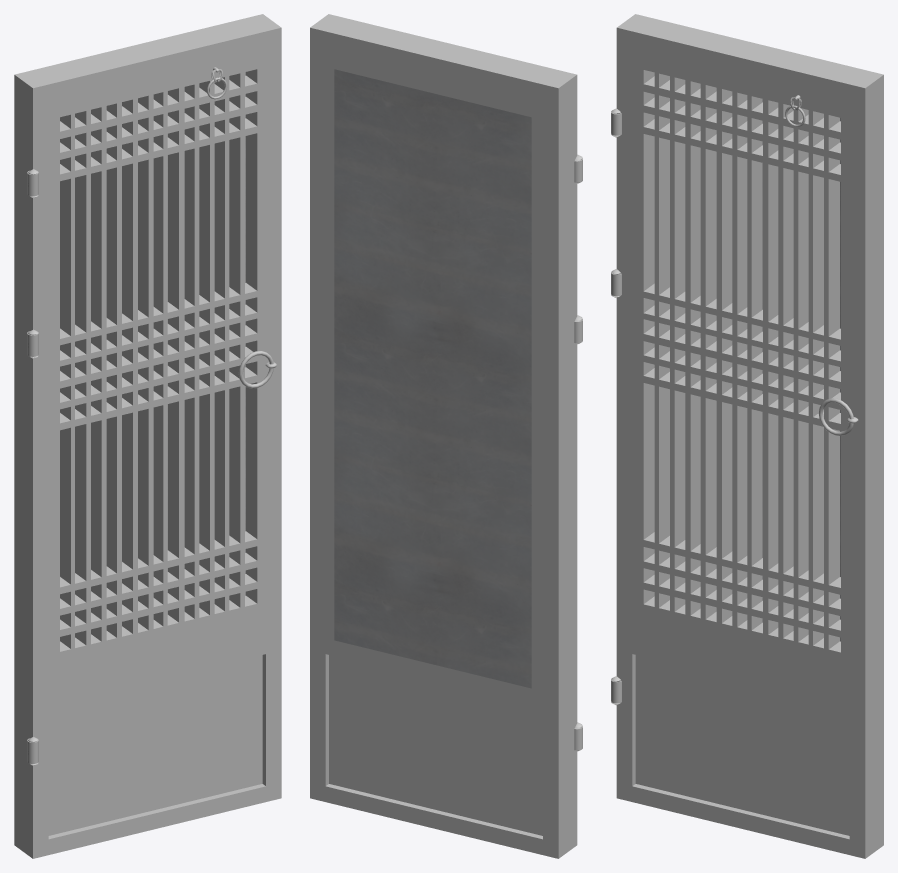
Rendered from SM_D_Wood_9.FBX.
3 views of the same model, side by side, from view 1: azimuth 30°, elevation 25°; view 2: azimuth 150°, elevation 25°; view 3: azimuth 330°, elevation 25° (orthographic).
Parts seen in each view (by area): view 1: SM_D_Wood_9; view 2: SM_D_Wood_9; view 3: SM_D_Wood_9.
Part boxes in pixels (left/top/right/bottom): SM_D_Wood_9: left=14, top=14, right=281, bottom=858; SM_D_Wood_9: left=310, top=14, right=582, bottom=858; SM_D_Wood_9: left=611, top=14, right=883, bottom=858.
Bounding box in the file's own units: 81.71 × 12.53 × 237.
